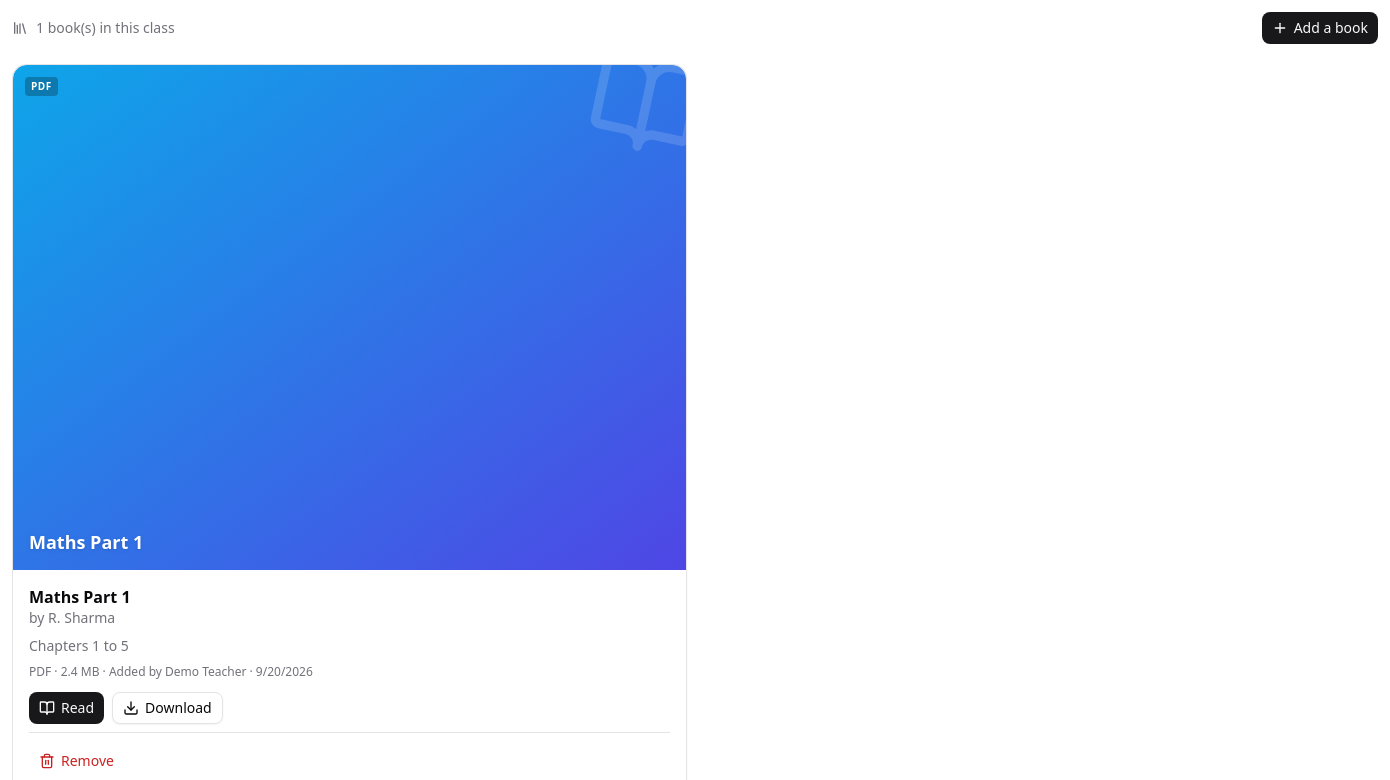
Scenario: books channel › offers staff the add form, and a teacher cannot see the withdraw control
The image size is (1390, 780).
Click the button "Add a book": coordinates (1320, 28) [1262, 12, 1378, 44]
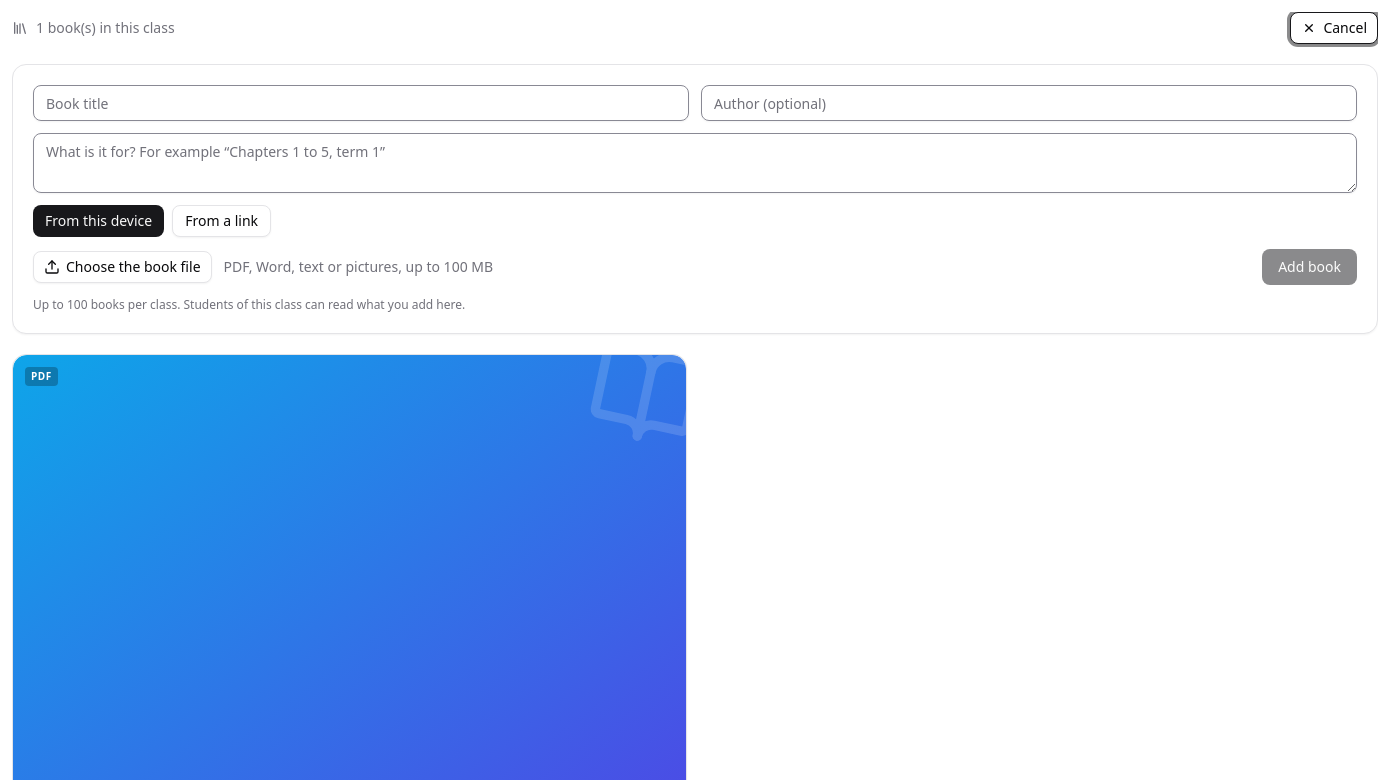
Now the form named "add a book" is shown, box [12, 64, 1378, 334]
Now the button "Add book" is disabled, box [1262, 249, 1357, 285]
